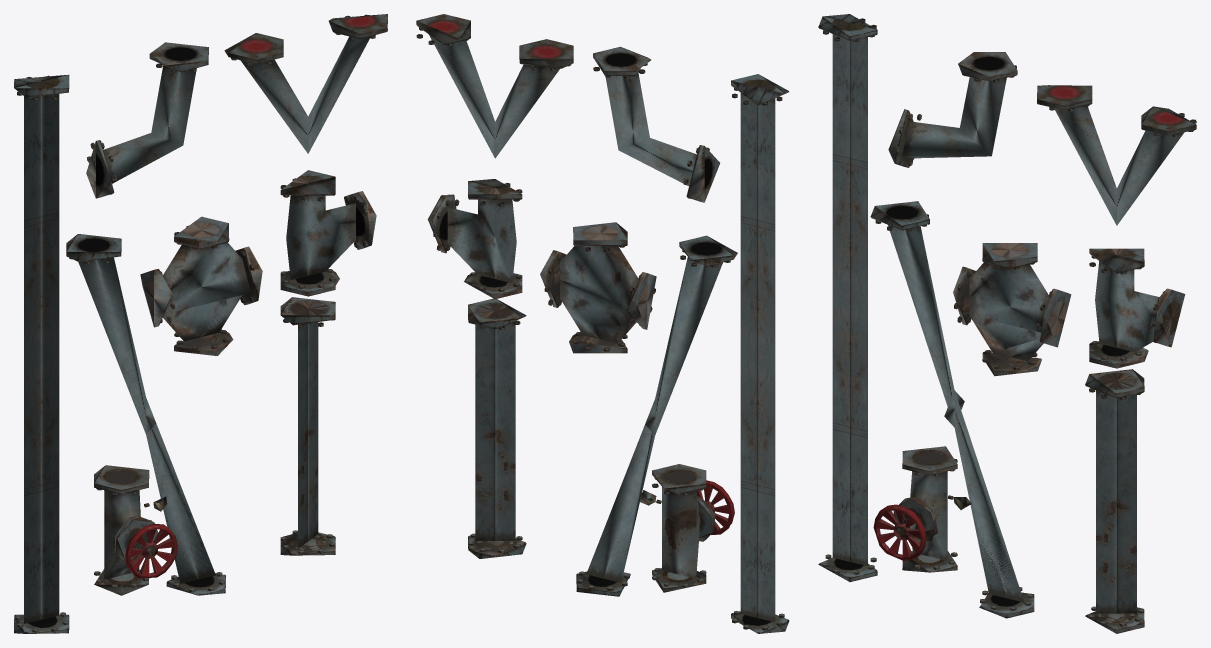
The model's file is modular_industrial_pipes_01.glb.
3 views of the same model, side by side, from view 1: azimuth 30°, elevation 25°; view 2: azimuth 150°, elevation 25°; view 3: azimuth 330°, elevation 25° (orthographic).
Visible parts, largest first — view 1: modular_industrial_pipes_01_pipe02, modular_industrial_pipes_01_pipe07, modular_industrial_pipes_01_pipe03, modular_industrial_pipes_01_pipe06, modular_industrial_pipes_01_pipe08, modular_industrial_pipes_01_pipe01, modular_industrial_pipes_01_pipe04, modular_industrial_pipes_01_pipe05; view 2: modular_industrial_pipes_01_pipe02, modular_industrial_pipes_01_pipe01, modular_industrial_pipes_01_pipe03, modular_industrial_pipes_01_pipe07, modular_industrial_pipes_01_pipe05, modular_industrial_pipes_01_pipe06, modular_industrial_pipes_01_pipe08, modular_industrial_pipes_01_pipe04; view 3: modular_industrial_pipes_01_pipe02, modular_industrial_pipes_01_pipe01, modular_industrial_pipes_01_pipe03, modular_industrial_pipes_01_pipe07, modular_industrial_pipes_01_pipe06, modular_industrial_pipes_01_pipe05, modular_industrial_pipes_01_pipe08, modular_industrial_pipes_01_pipe04.
Boxes of the visible parts, x1,y1,x2,y2 form: modular_industrial_pipes_01_pipe02: (14, 74, 69, 633); modular_industrial_pipes_01_pipe07: (140, 216, 262, 355); modular_industrial_pipes_01_pipe03: (66, 234, 225, 595); modular_industrial_pipes_01_pipe06: (280, 170, 376, 296); modular_industrial_pipes_01_pipe08: (94, 465, 177, 595); modular_industrial_pipes_01_pipe01: (280, 297, 335, 555); modular_industrial_pipes_01_pipe04: (86, 42, 208, 198); modular_industrial_pipes_01_pipe05: (224, 14, 387, 153); modular_industrial_pipes_01_pipe02: (731, 74, 789, 633); modular_industrial_pipes_01_pipe01: (468, 298, 526, 558); modular_industrial_pipes_01_pipe03: (576, 235, 737, 596); modular_industrial_pipes_01_pipe07: (540, 222, 656, 353); modular_industrial_pipes_01_pipe05: (416, 14, 573, 158); modular_industrial_pipes_01_pipe06: (427, 179, 522, 299); modular_industrial_pipes_01_pipe08: (640, 464, 734, 592); modular_industrial_pipes_01_pipe04: (593, 46, 719, 202); modular_industrial_pipes_01_pipe02: (818, 14, 877, 581); modular_industrial_pipes_01_pipe01: (1085, 369, 1144, 633); modular_industrial_pipes_01_pipe03: (870, 201, 1034, 618); modular_industrial_pipes_01_pipe07: (953, 243, 1071, 376); modular_industrial_pipes_01_pipe06: (1089, 248, 1185, 368); modular_industrial_pipes_01_pipe05: (1037, 85, 1196, 225); modular_industrial_pipes_01_pipe08: (873, 446, 971, 572); modular_industrial_pipes_01_pipe04: (888, 52, 1017, 167).
Bounding box in the file's own units: 1.4 × 1.95 × 0.3073.
2 materials, 2 textured.
